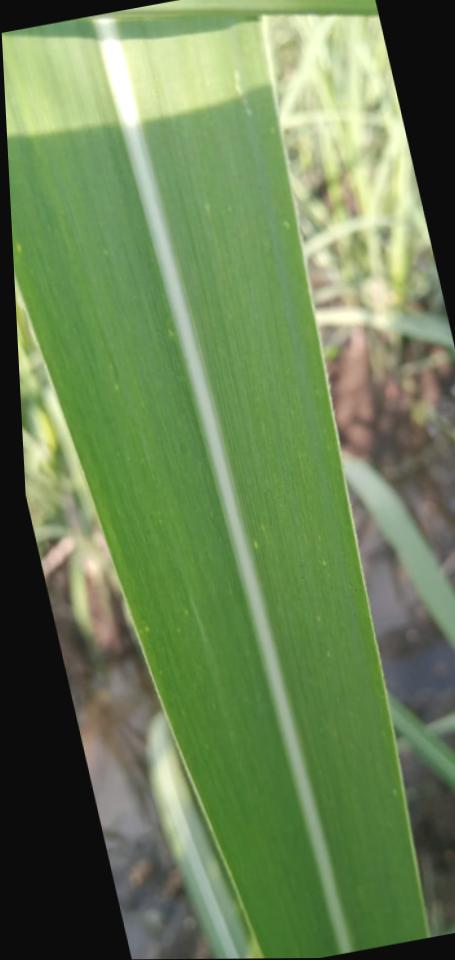Healthy: (2, 21, 339, 958), (114, 14, 426, 950)
